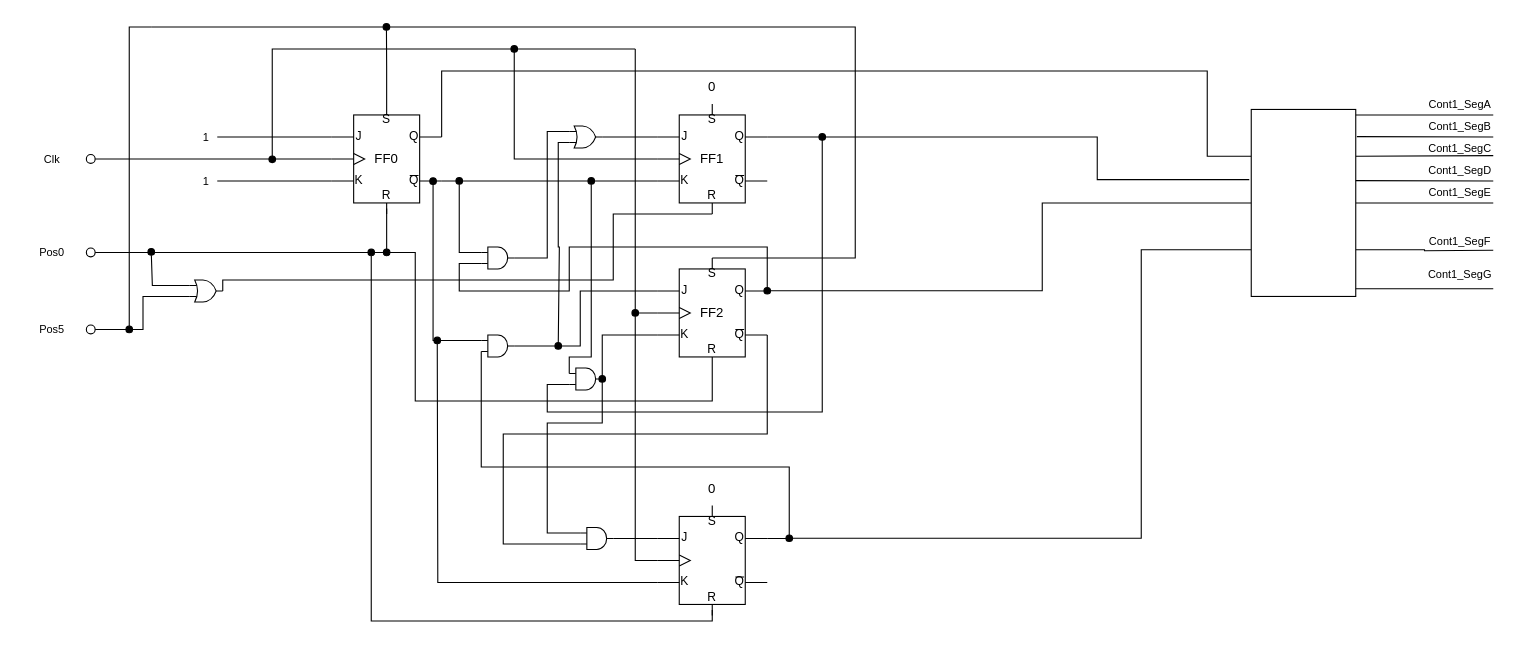
Image size: 1514x649. Some labels were removed from this diagram. The shapes that lost their labels are listed below. From the top down, each one's centre as x and y in pixels, then its label:
At (1303,202): "DECODE CONTADOR".
At (711,559): "FF3".
